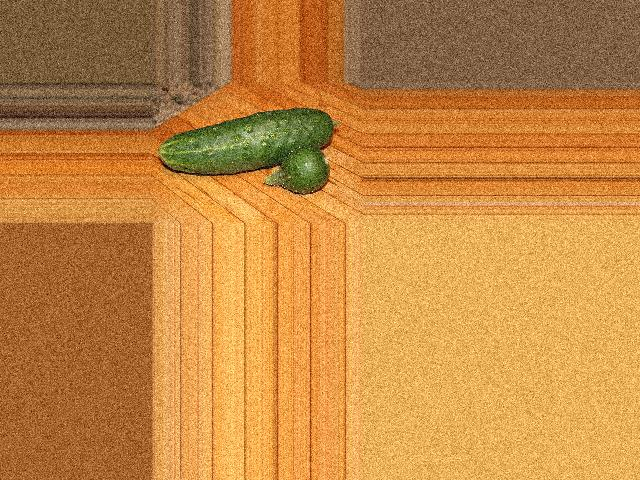cucumber: (157, 108, 334, 175)
